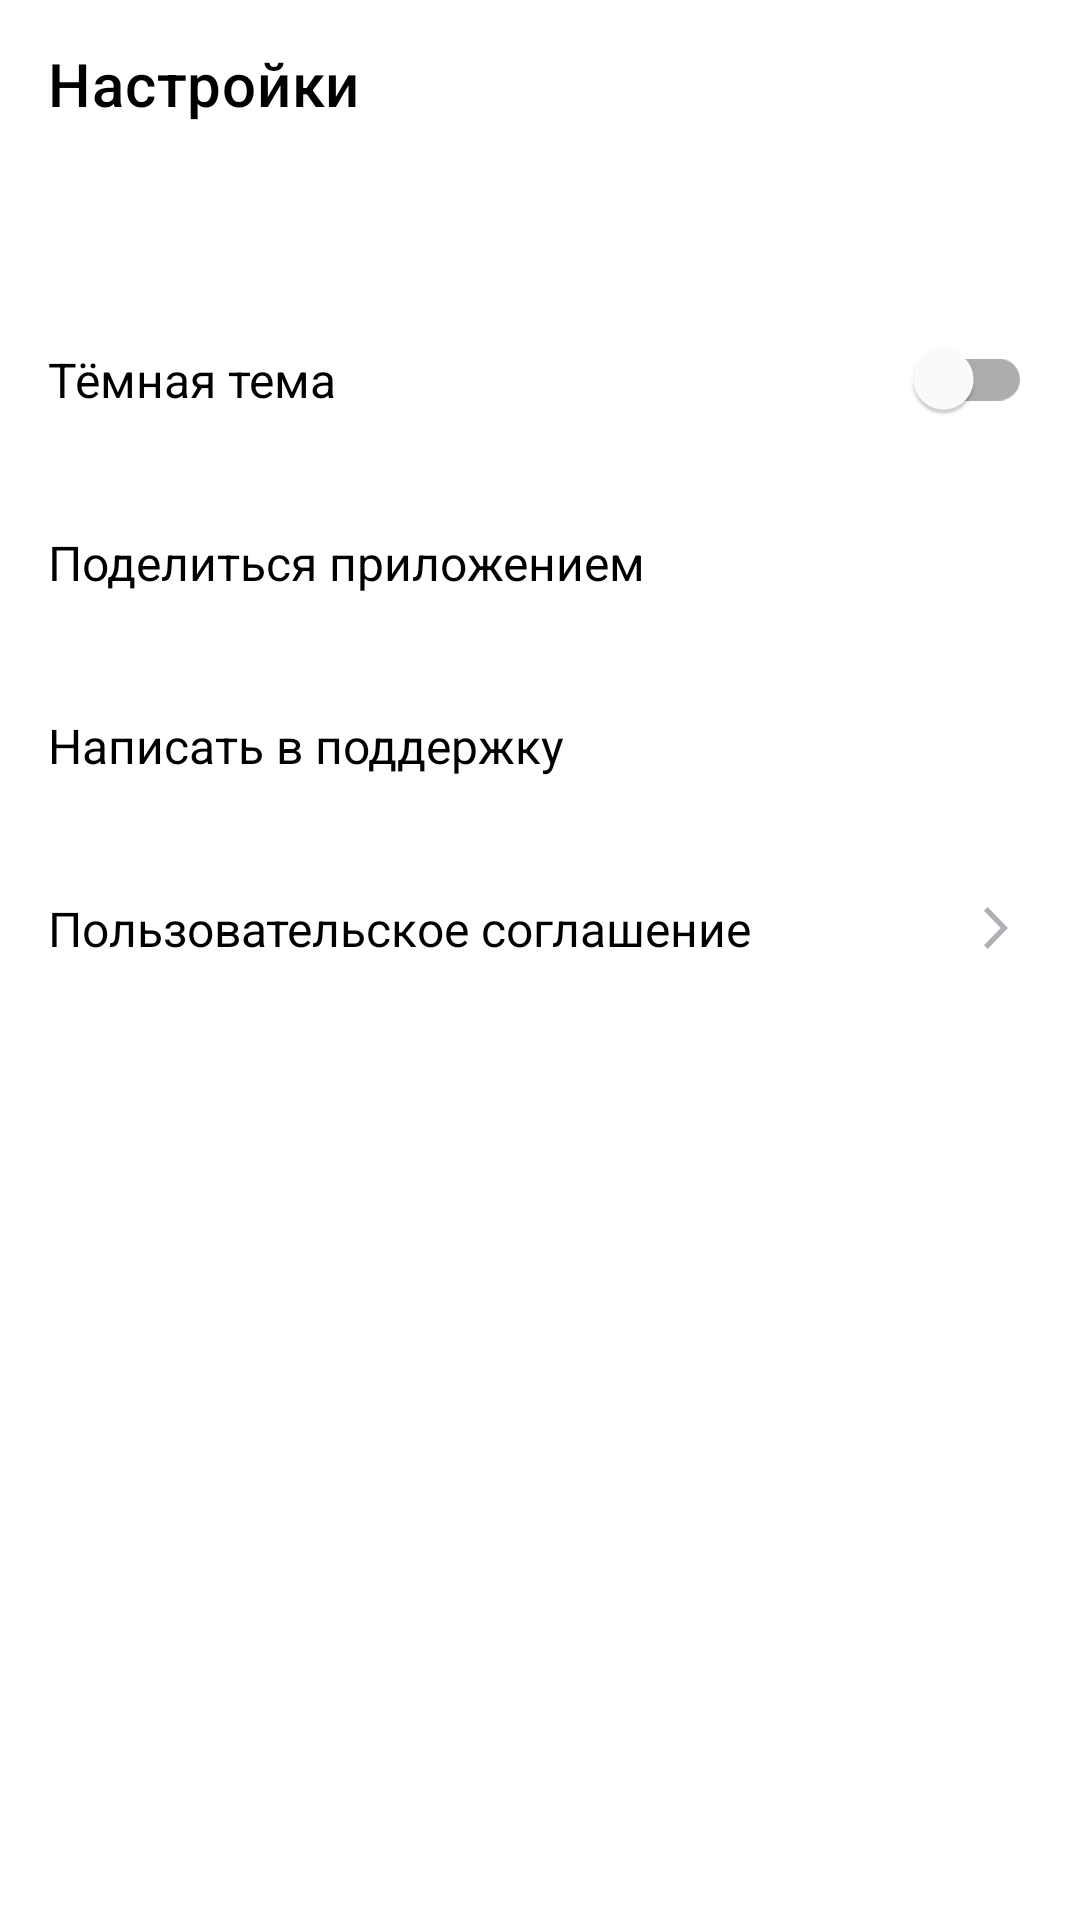

Where to tap for icons on this 1080x1920 app screen, as (x=x, y=y):
arrow: (x=996, y=928)
